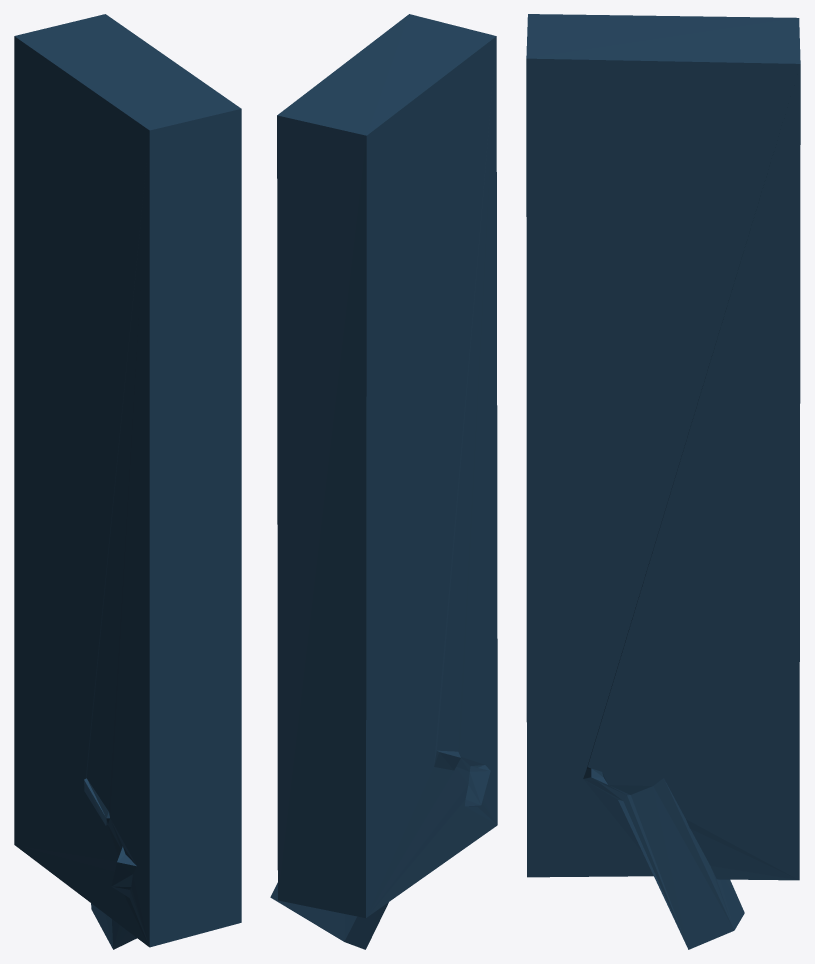
3 views of the same model, side by side, from view 1: azimuth 30°, elevation 25°; view 2: azimuth 150°, elevation 25°; view 3: azimuth 270°, elevation 25° (orthographic). The views are drawn at different scales.
Parts seen in each view (by area): view 1: 126_Cube.520; view 2: 126_Cube.520; view 3: 126_Cube.520.
Part boxes in pixels (box(x1,y1,x2,y2)): 126_Cube.520: box(14, 14, 241, 949); 126_Cube.520: box(270, 14, 497, 949); 126_Cube.520: box(526, 14, 800, 949).
Bounding box in the file's own units: 2.23 × 13.19 × 3.65.
